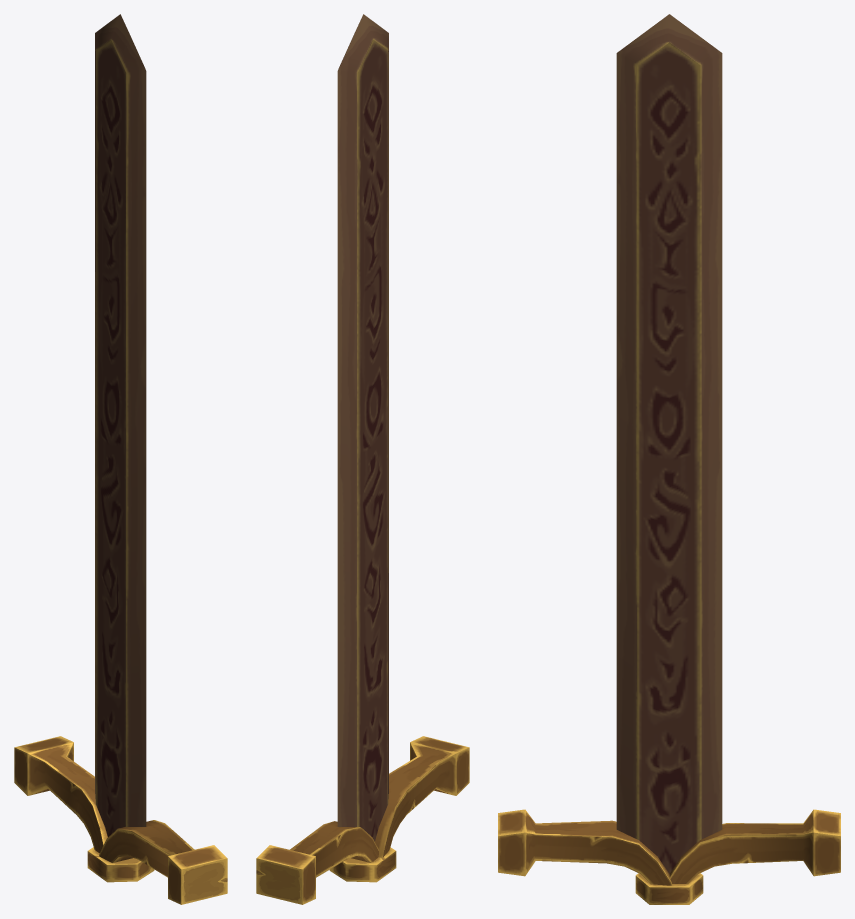
The model's file is SM_WEP_head_sword_battle_37.fbx.
3 renders of one model, left to right at view 1: azimuth 30°, elevation 25°; view 2: azimuth 150°, elevation 25°; view 3: azimuth 270°, elevation 25°, orthographic. The views are drawn at different scales.
Parts seen in each view (by area): view 1: SM_WEP_head_sword_battle_37; view 2: SM_WEP_head_sword_battle_37; view 3: SM_WEP_head_sword_battle_37.
Part boxes in pixels (<box>): SM_WEP_head_sword_battle_37: <box>14,14,227,904</box>; SM_WEP_head_sword_battle_37: <box>256,14,469,904</box>; SM_WEP_head_sword_battle_37: <box>498,14,840,904</box>.
Bounding box in the file's own units: 7.11 × 124 × 43.75.
